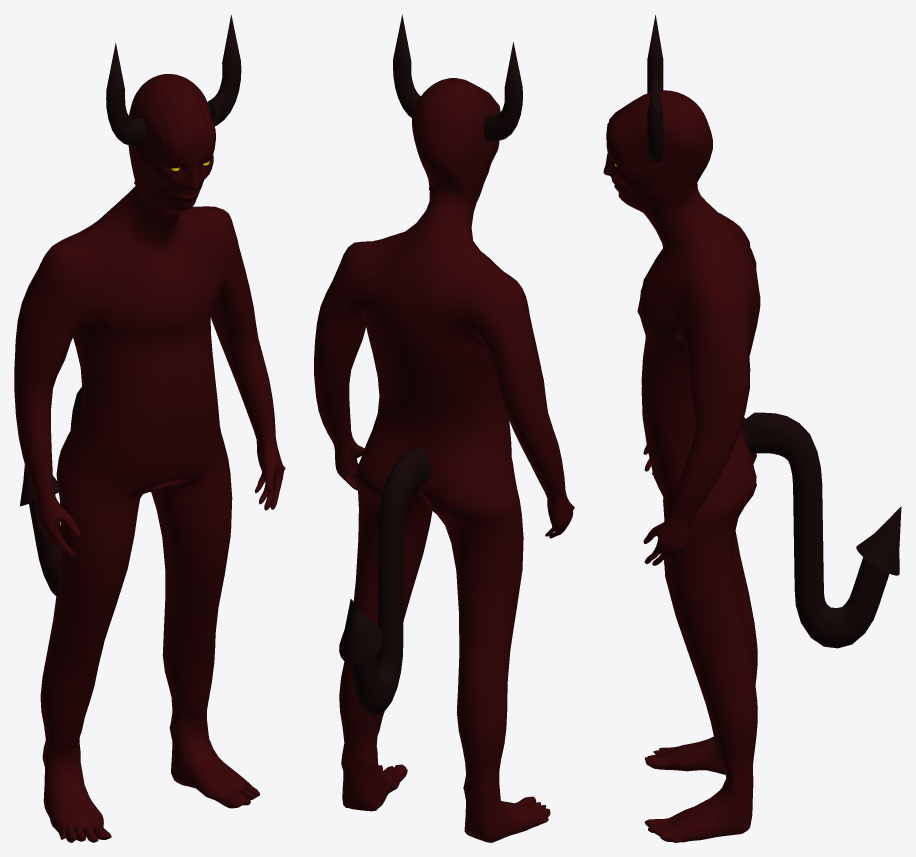
File: Satan.obj
3 renders of one model, left to right at view 1: azimuth 30°, elevation 25°; view 2: azimuth 150°, elevation 25°; view 3: azimuth 270°, elevation 25°, orthographic. The views are drawn at different scales.
Visible parts, largest first — view 1: pCylinder15; view 2: pCylinder15; view 3: pCylinder15.
Part boxes in pixels (box(x1,y1,x2,y2)): pCylinder15: box(14, 15, 285, 842); pCylinder15: box(314, 15, 574, 842); pCylinder15: box(603, 15, 901, 842).
Size of the model in its own units: 11.59 by 36.1 by 12.81.
